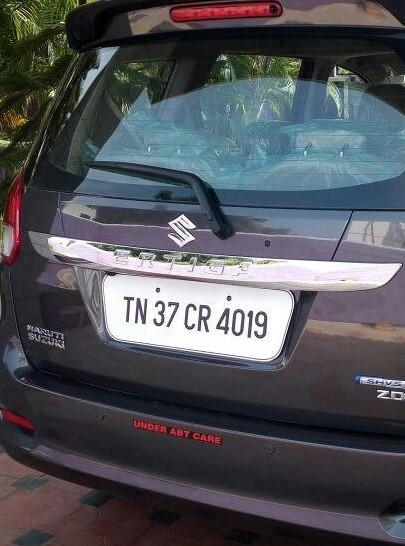License-Plate: (102, 271, 296, 357)
